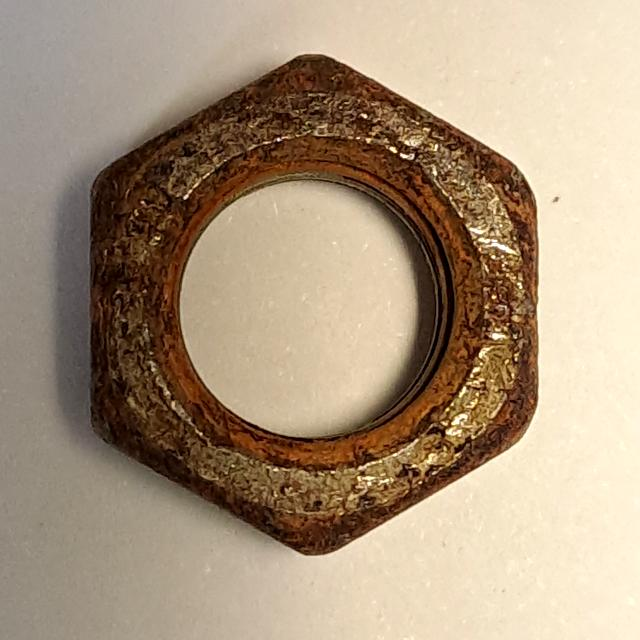Rust: (72, 42, 558, 572)
